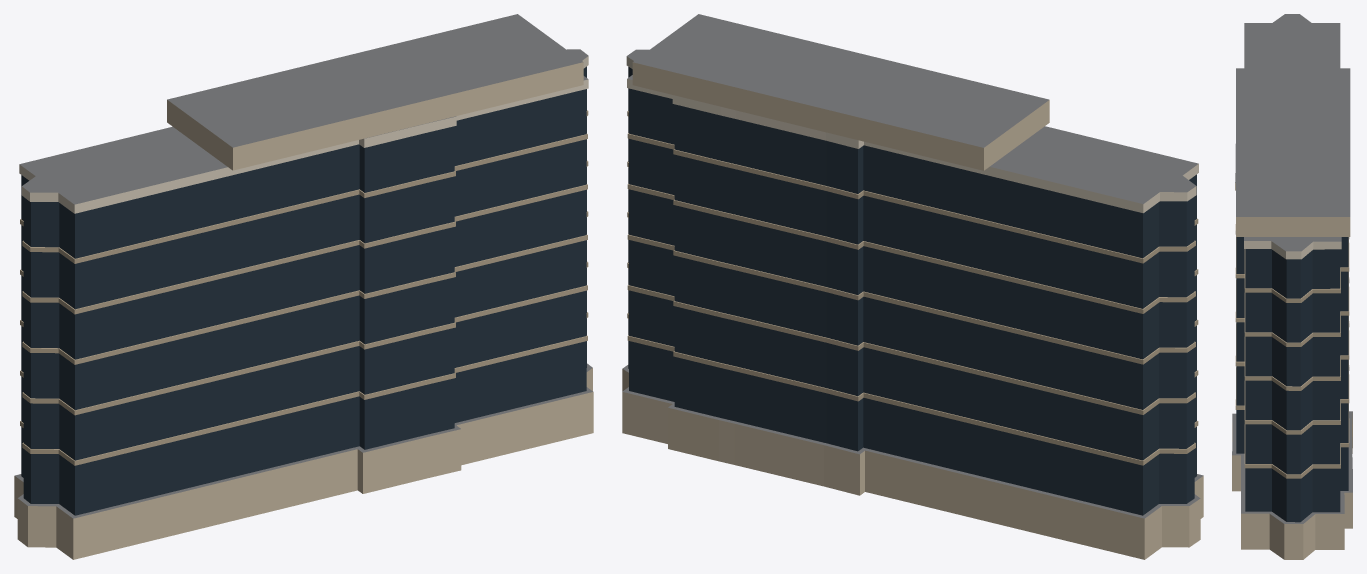
The model's file is bldg_w27897921.glb.
3 renders of one model, left to right at view 1: azimuth 30°, elevation 25°; view 2: azimuth 150°, elevation 25°; view 3: azimuth 270°, elevation 25°, orthographic. The views are drawn at different scales.
Visible parts, largest first — view 1: Bldg_w27897921; view 2: Bldg_w27897921; view 3: Bldg_w27897921.
Part boxes in pixels (x1=…): Bldg_w27897921: x1=14, y1=14, x2=593, y2=559; Bldg_w27897921: x1=622, y1=14, x2=1203, y2=559; Bldg_w27897921: x1=1232, y1=14, x2=1352, y2=559.
Bounding box in the file's own units: 129 × 82 × 27.48.
